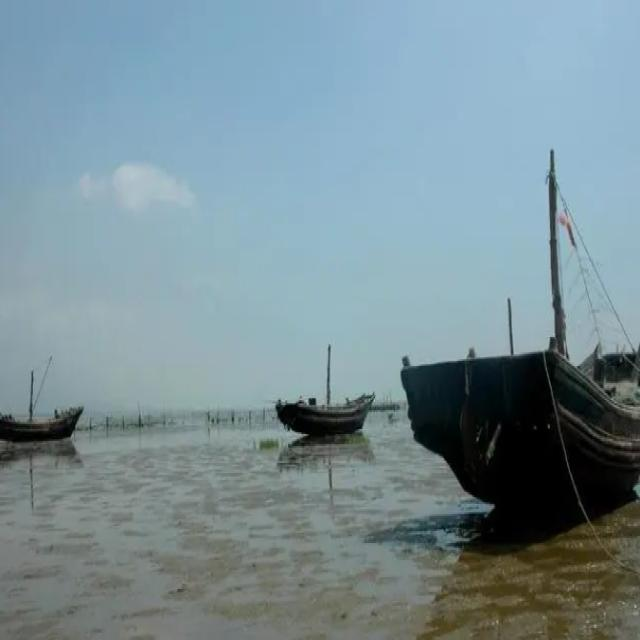fishing boat: (407, 146, 640, 520), (280, 330, 375, 436), (0, 349, 84, 448)
